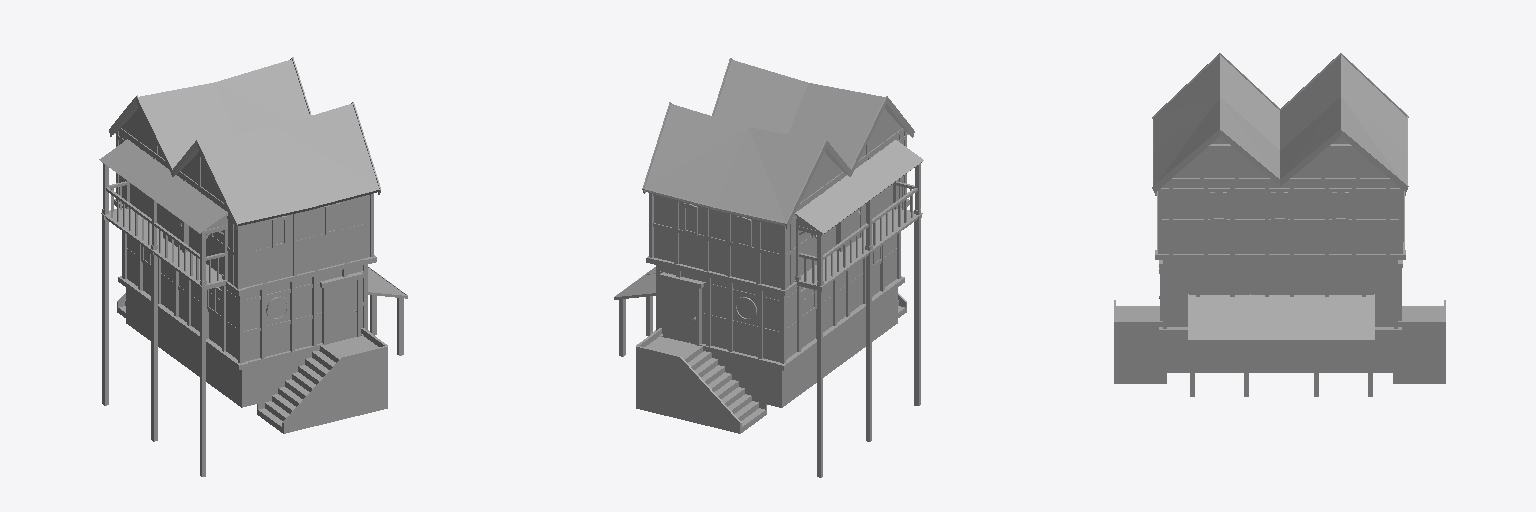
File: UU8LHHNN7K1BGJS48KSDYHJ3R.obj
3 views of the same model, side by side, from view 1: azimuth 30°, elevation 25°; view 2: azimuth 150°, elevation 25°; view 3: azimuth 270°, elevation 25° (orthographic).
Parts seen in each view (by area): view 1: Object_Wood.jpg, Object_RoofTiles.jpg, Object_Plaster.jpg, Object_GreyBricks.jpg, Object_DoorType1_1.jpg; view 2: Object_Wood.jpg, Object_RoofTiles.jpg, Object_Plaster.jpg, Object_GreyBricks.jpg, Object_DoorType1_1.jpg; view 3: Object_Wood.jpg, Object_RoofTiles.jpg, Object_Plaster.jpg, Object_GreyBricks.jpg, Object_WindowAllBroken1.jpg.
Part boxes in pixels (bbox=[...]): Object_Wood.jpg: bbox=[101, 57, 407, 476]; Object_RoofTiles.jpg: bbox=[99, 59, 406, 295]; Object_Plaster.jpg: bbox=[117, 235, 387, 433]; Object_GreyBricks.jpg: bbox=[126, 288, 311, 407]; Object_DoorType1_1.jpg: bbox=[165, 209, 356, 343]; Object_Wood.jpg: bbox=[614, 58, 922, 477]; Object_RoofTiles.jpg: bbox=[616, 60, 923, 296]; Object_Plaster.jpg: bbox=[636, 235, 906, 433]; Object_GreyBricks.jpg: bbox=[712, 288, 897, 407]; Object_DoorType1_1.jpg: bbox=[666, 208, 859, 343]; Object_Wood.jpg: bbox=[1152, 53, 1408, 396]; Object_RoofTiles.jpg: bbox=[1154, 55, 1406, 339]; Object_Plaster.jpg: bbox=[1114, 260, 1445, 383]; Object_GreyBricks.jpg: bbox=[1164, 335, 1396, 372]; Object_WindowAllBroken1.jpg: bbox=[1214, 195, 1345, 217].
Size of the model in its own units: 1.74 by 2.5 by 2.36.